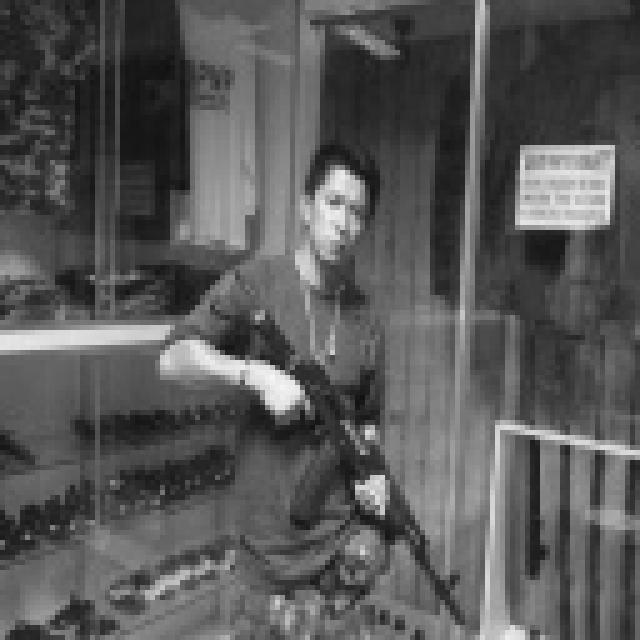Rifle: (222, 294, 504, 622)
